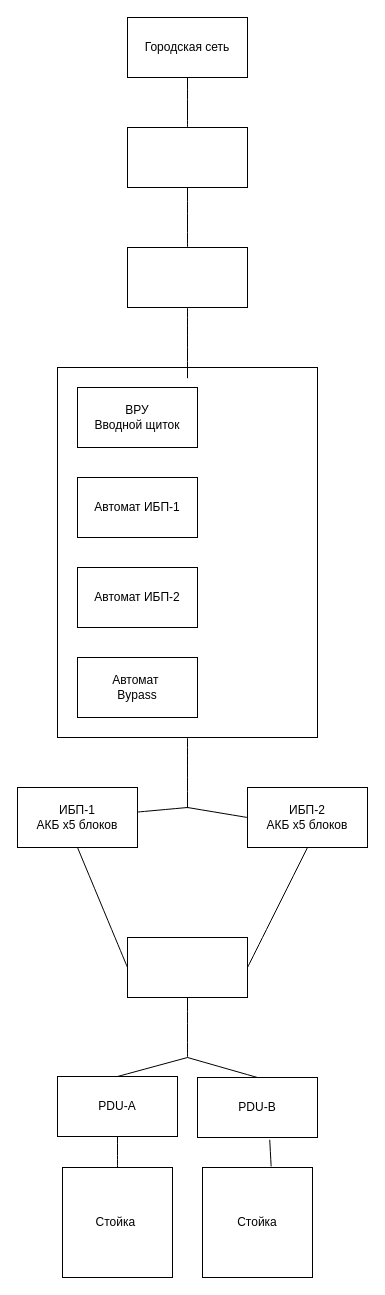
Image size: 385x1295. Some labels were removed from this diagram. The shapes that lost their labels are listed below. From the top down, each one's centre as x and y in pixels, then its label:
At pixel 187 157: "ДГУ".
At pixel 187 277: "АВР Сеть/ДГУ".
At pixel 187 967: "Внешний BYPASS (сервисный щит)".
